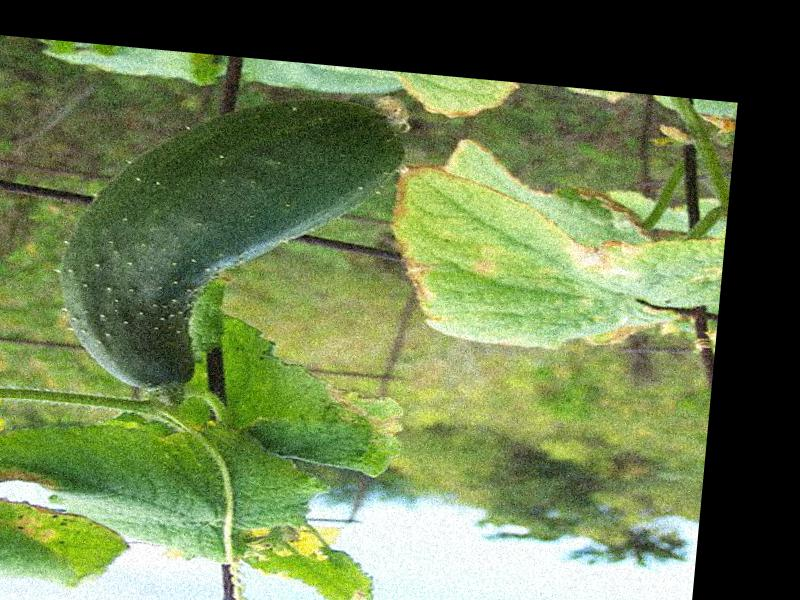Cucumber: (53, 75, 413, 414)
